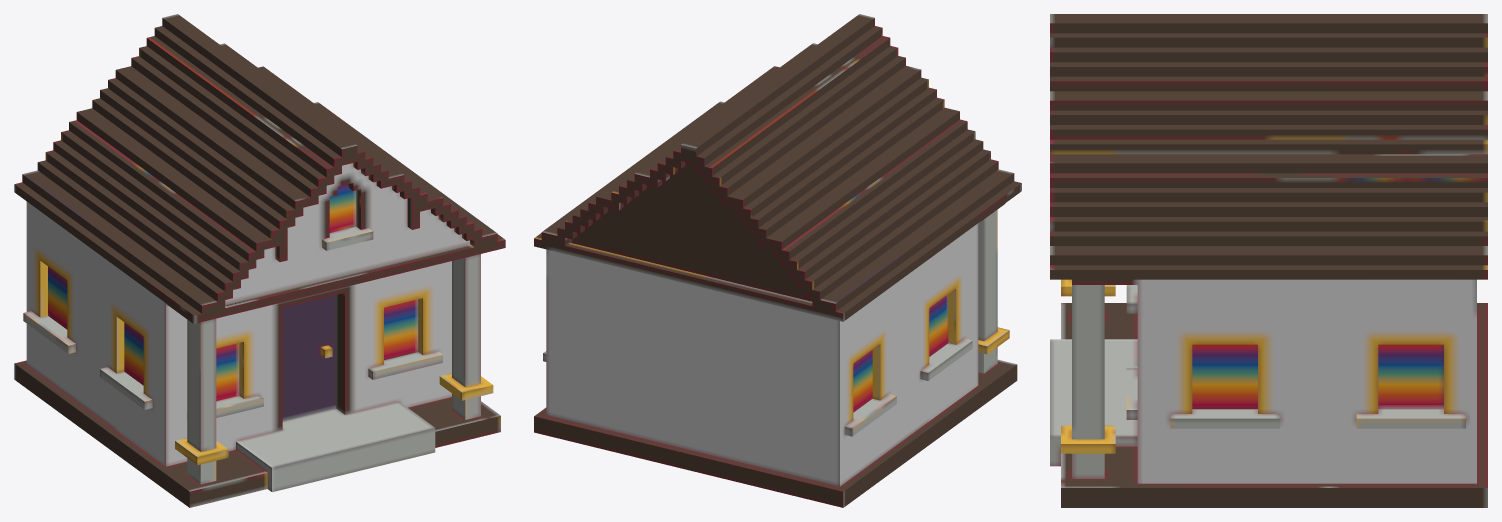
File: trippycribrevise.obj
The picture shows the model from 3 angles, left to right: view 1: azimuth 30°, elevation 25°; view 2: azimuth 150°, elevation 25°; view 3: azimuth 270°, elevation 25°; orthographic projection. The views are drawn at different scales.
Parts seen in each view (by area): view 1: Untitled_Backup_Untitled.001; view 2: Untitled_Backup_Untitled.001; view 3: Untitled_Backup_Untitled.001.
Part boxes in pixels (x1,y1,x2,y2): Untitled_Backup_Untitled.001: (14, 14, 505, 507); Untitled_Backup_Untitled.001: (534, 14, 1021, 507); Untitled_Backup_Untitled.001: (1050, 14, 1487, 507).
Bounding box in the file's own units: 4 × 4 × 4.
